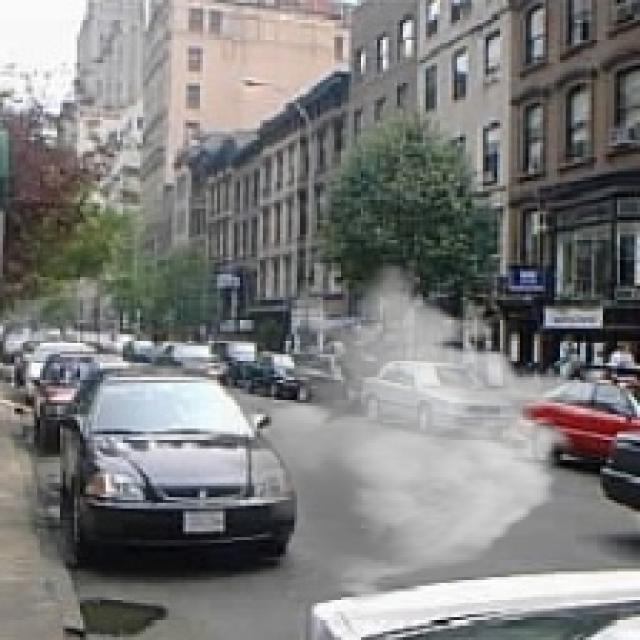Smoke: (220, 263, 597, 606)
